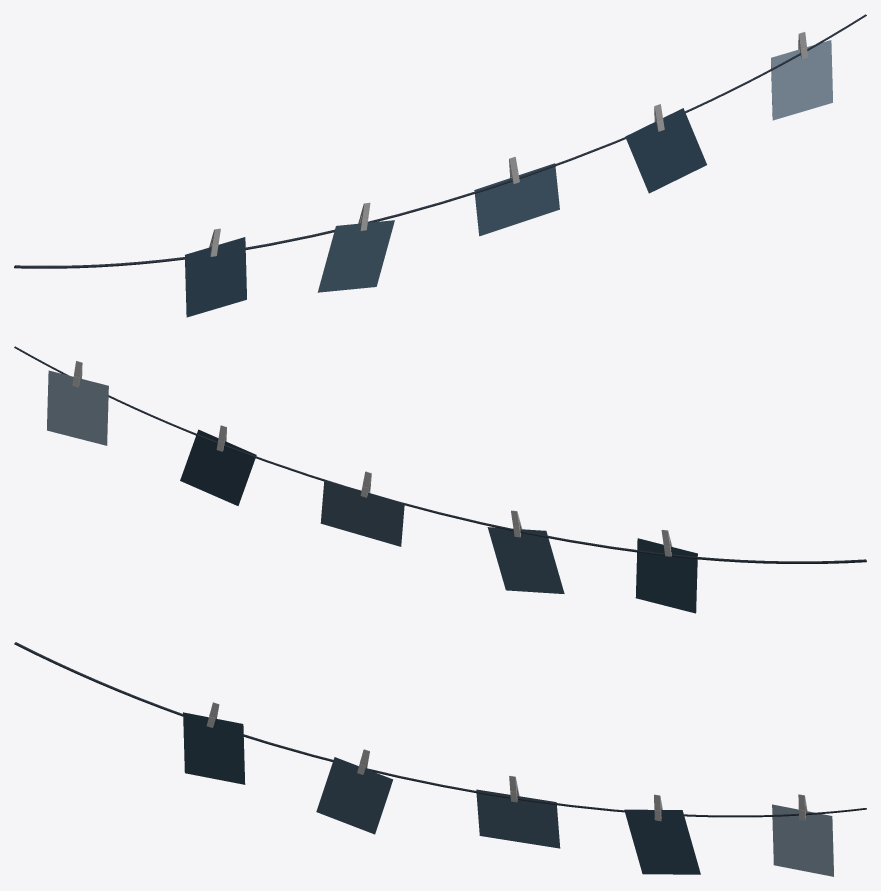
File: clothespinAnimation2.fbx
3 views of the same model, one above another, from view 1: azimuth 30°, elevation 25°; view 2: azimuth 150°, elevation 25°; view 3: azimuth 330°, elevation 25° (orthographic). The views are drawn at different scales.
Parts seen in each view (by area): view 1: clothespine_paper4, clothespine_paper2, clothespine_paper1, clothespine_paper3, clothespine_paper5, clothesline; view 2: clothespine_paper5, clothespine_paper3, clothespine_paper2, clothespine_paper1, clothespine_paper4, clothesline; view 3: clothespine_paper4, clothespine_paper2, clothespine_paper1, clothespine_paper3, clothespine_paper5, clothesline.
Part boxes in pixels (left/top/right/bottom): clothespine_paper4: left=625, top=108, right=706, bottom=193; clothespine_paper2: left=317, top=220, right=394, bottom=292; clothespine_paper1: left=185, top=237, right=246, bottom=317; clothespine_paper3: left=474, top=163, right=559, bottom=236; clothespine_paper5: left=771, top=40, right=832, bottom=120; clothesline: left=14, top=14, right=866, bottom=268; clothespine_paper5: left=47, top=370, right=108, bottom=445; clothespine_paper3: left=320, top=480, right=404, bottom=546; clothespine_paper2: left=487, top=527, right=564, bottom=593; clothespine_paper1: left=635, top=538, right=697, bottom=613; clothespine_paper4: left=180, top=429, right=256, bottom=505; clothesline: left=14, top=346, right=866, bottom=563; clothespine_paper4: left=624, top=809, right=700, bottom=874; clothespine_paper2: left=316, top=757, right=393, bottom=834; clothespine_paper1: left=183, top=712, right=245, bottom=784; clothespine_paper3: left=476, top=789, right=560, bottom=848; clothespine_paper5: left=772, top=804, right=833, bottom=876; clothesline: left=14, top=642, right=866, bottom=817.
Size of the model in its own units: 1.51 by 0.2341 by 0.0625.
